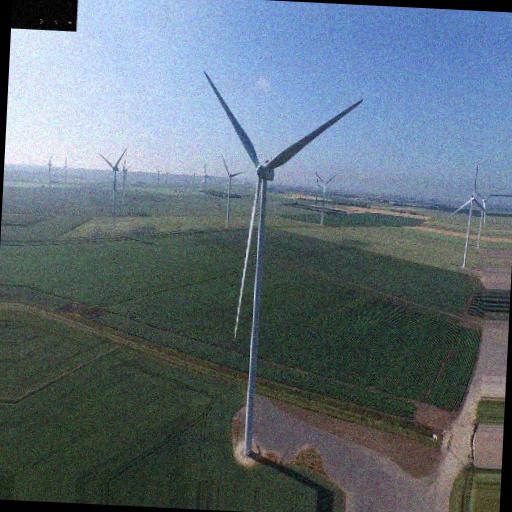wind turbine: (200, 69, 366, 461), (448, 164, 488, 272), (95, 146, 130, 221), (218, 151, 246, 226)
